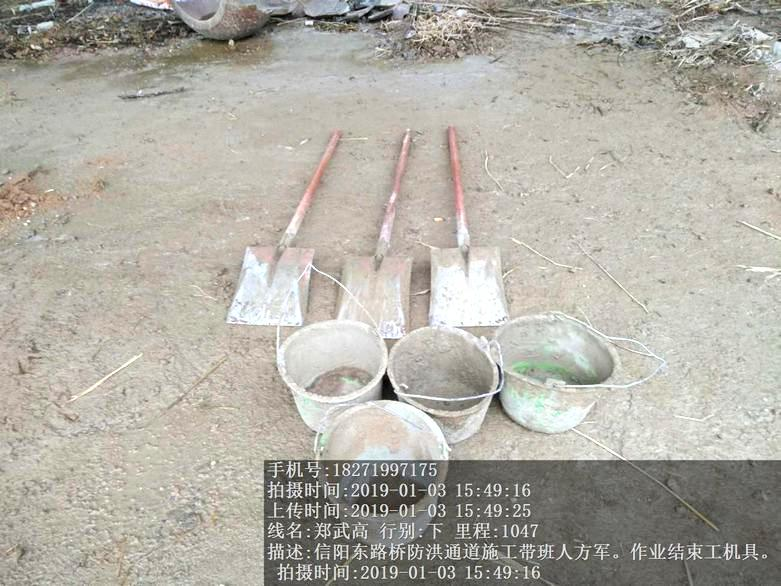SNT: (494, 314, 632, 423), (387, 322, 504, 438), (271, 314, 391, 413)
TQ: (221, 129, 337, 328), (427, 118, 512, 330), (335, 130, 419, 328)
